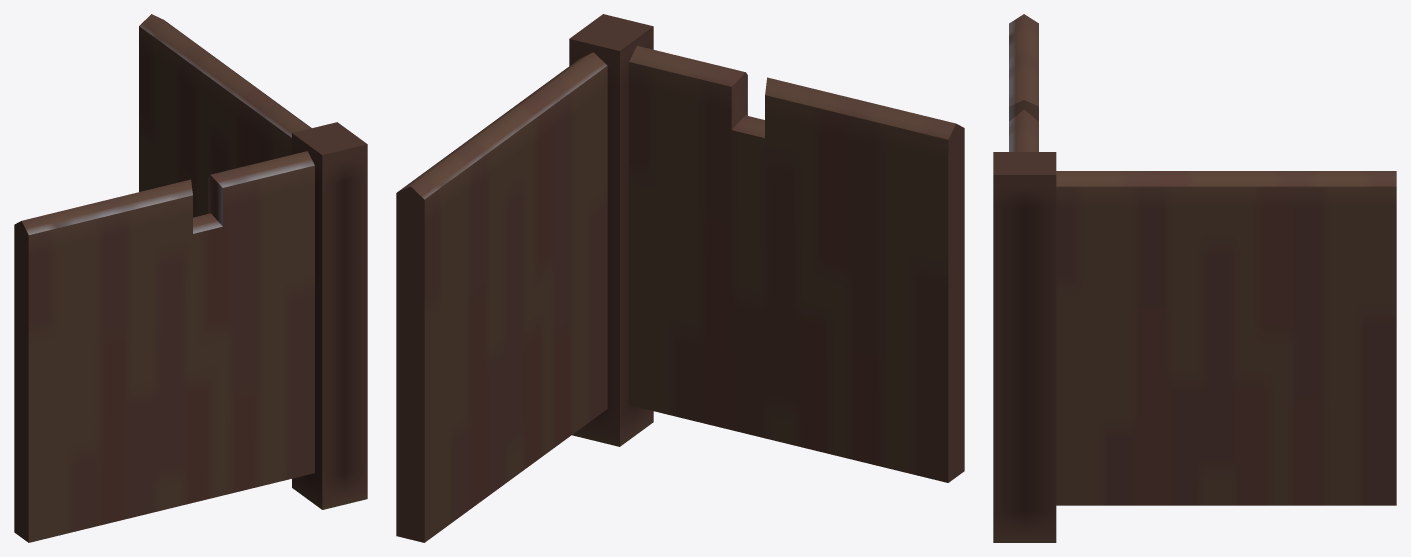
The model's file is fence_corner.fbx.
3 views of the same model, side by side, from view 1: azimuth 30°, elevation 25°; view 2: azimuth 150°, elevation 25°; view 3: azimuth 270°, elevation 25° (orthographic). The views are drawn at different scales.
Parts seen in each view (by area): view 1: fence_corner; view 2: fence_corner; view 3: fence_corner.
Boxes of the visible parts, <box> form: fence_corner: <box>14,14,367,542</box>; fence_corner: <box>396,14,964,542</box>; fence_corner: <box>993,14,1396,542</box>.
Size of the model in its own units: 200 by 205 by 204.
